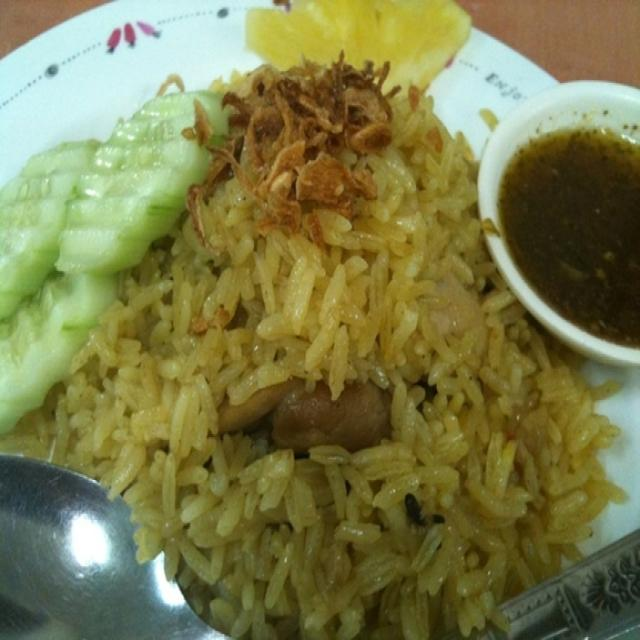米饭主食: (21, 34, 631, 607)
